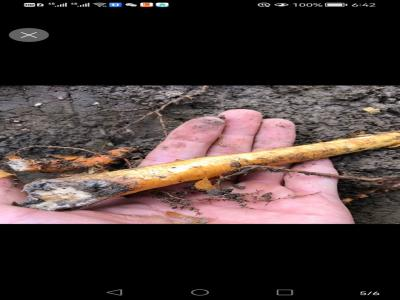Root: (20, 132, 399, 211)
